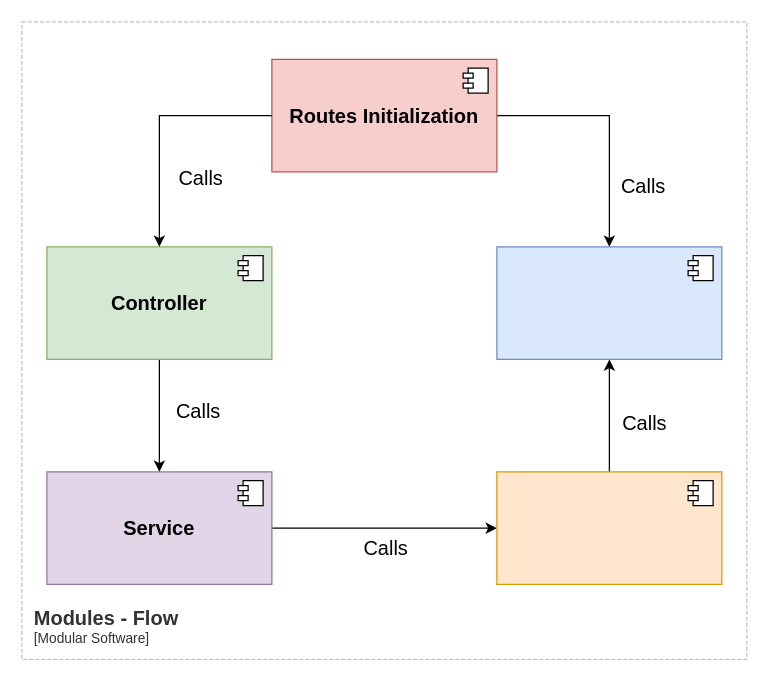
The diagram is 769 pixels wide and 681 high, and some of its shapes have lost their labels. Here are the shapes that lost their labels. From the top down, the box of each, then its label:
(496, 246, 722, 359): Database
(496, 471, 722, 584): Repository
